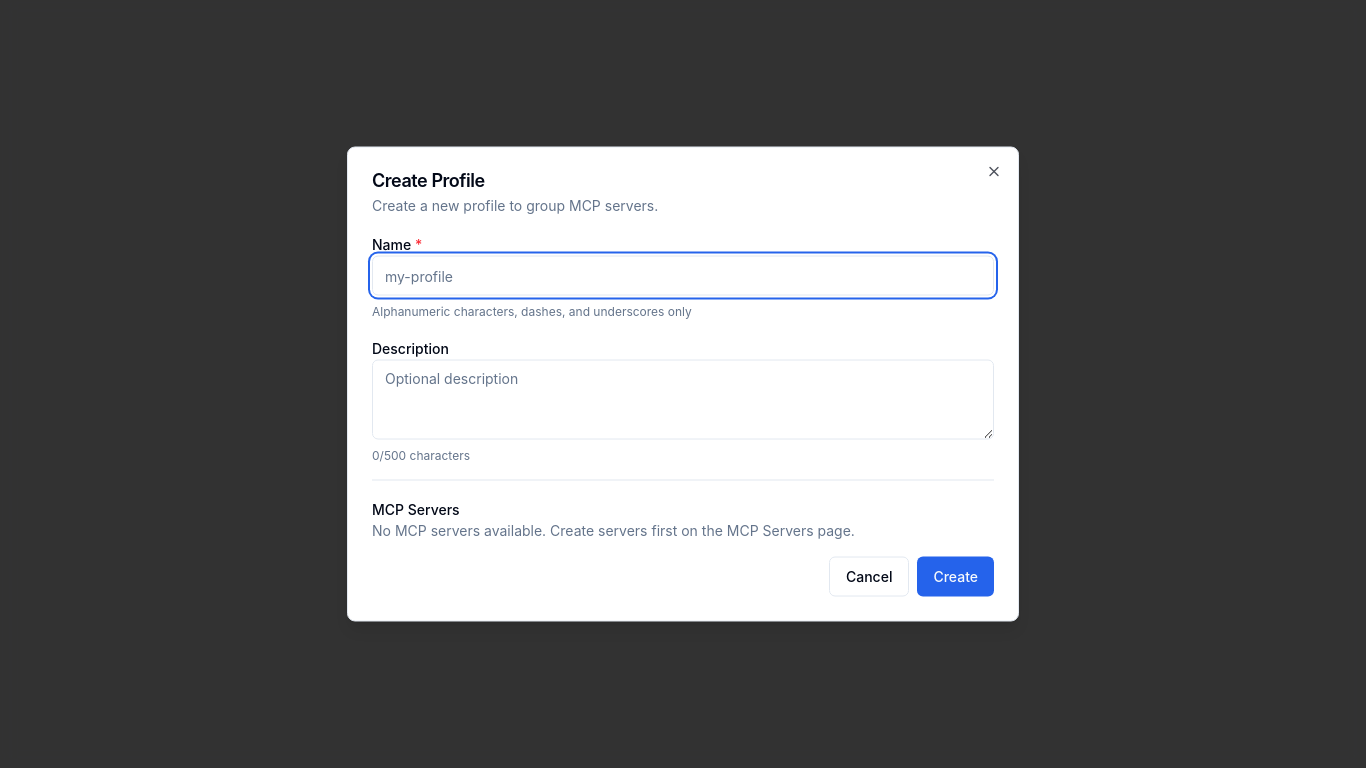
Test: ProfileForm › should validate empty name
Expected: the dialog is shown, [347,146,1019,622]
Expected: the heading "Create Profile" is shown, [372,170,485,190]
What coordinates should you click on to do the following:
click the button "Create"
I would click on:
 (956, 576)
Its box is [917,556,994,596].
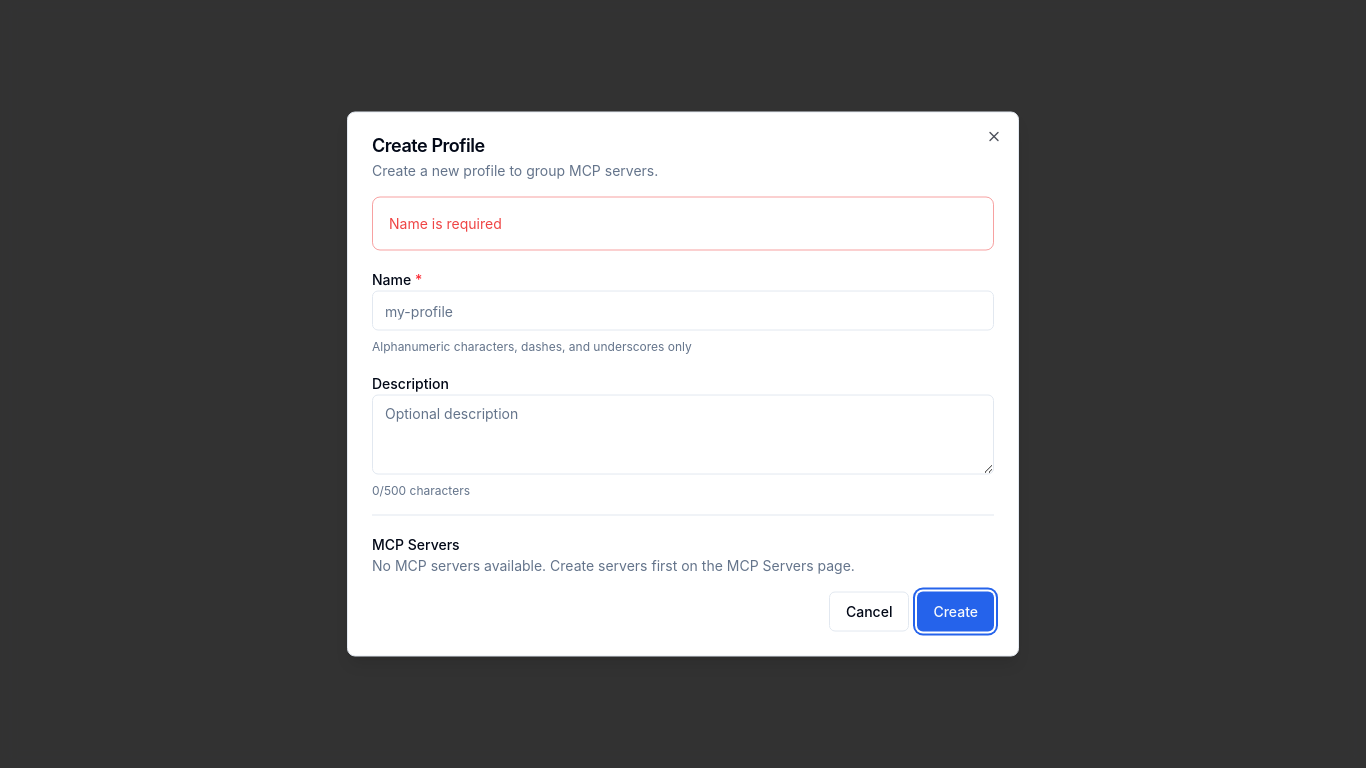
Expected: the message reads "Name is required", [389,214,502,232]
